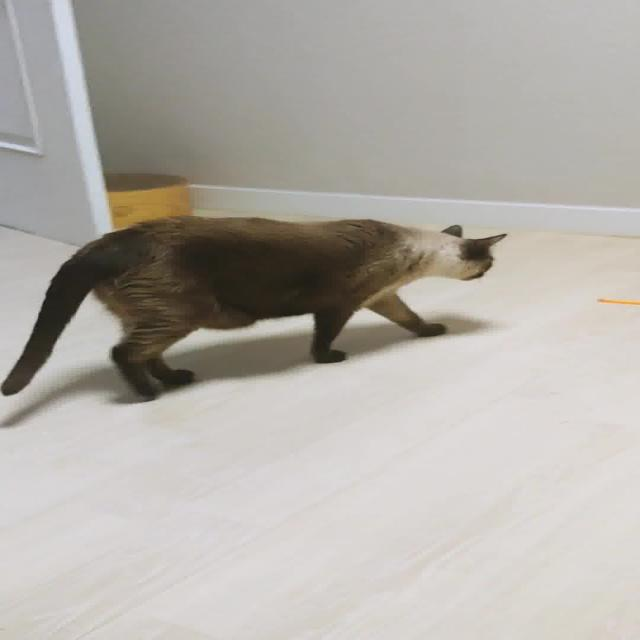cat: (0, 200, 514, 409)
